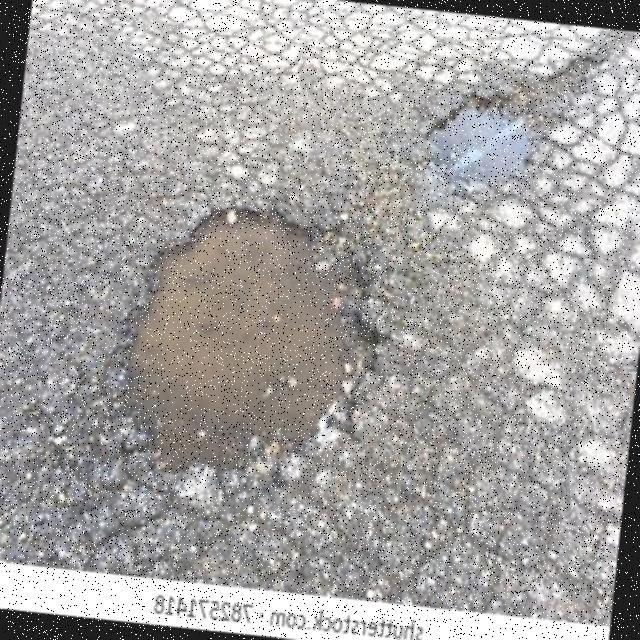Pothole: (129, 210, 387, 474), (427, 106, 541, 184)
